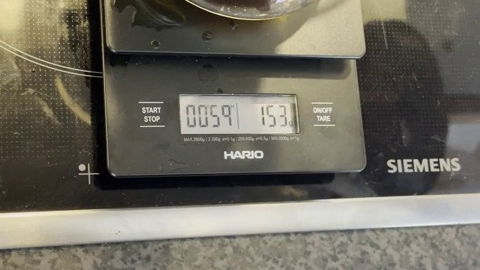display: (179, 95, 296, 133)
